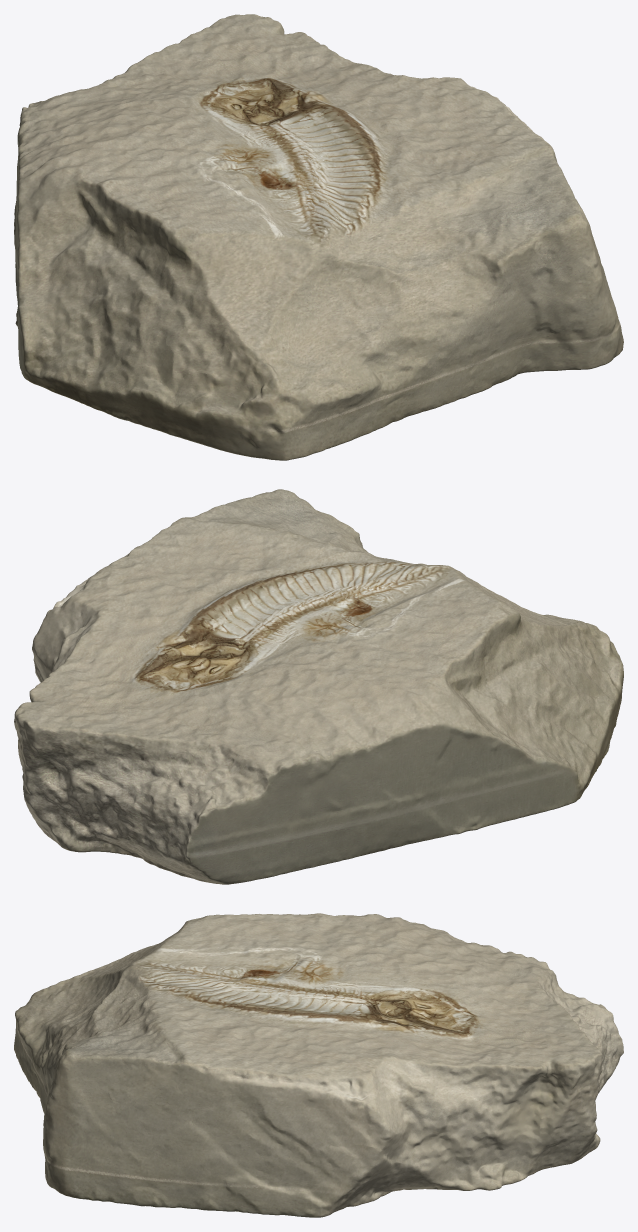
File: fish2.glb
The picture shows the model from 3 angles, top to bottom: view 1: azimuth 30°, elevation 25°; view 2: azimuth 150°, elevation 25°; view 3: azimuth 270°, elevation 25°; orthographic projection. The views are drawn at different scales.
Bounding box in the file's own units: 1.64 × 0.4587 × 1.9.
1 material, 1 textured.
